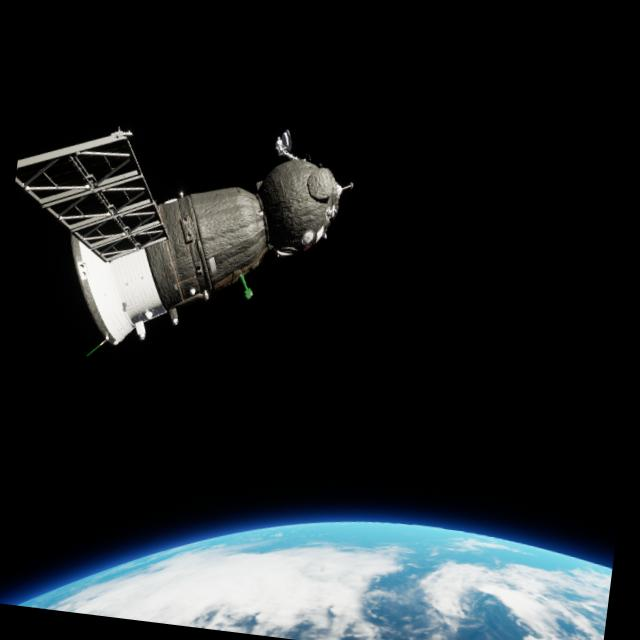Satellites revolving around earth: (0, 94, 359, 377), (15, 474, 613, 640)
